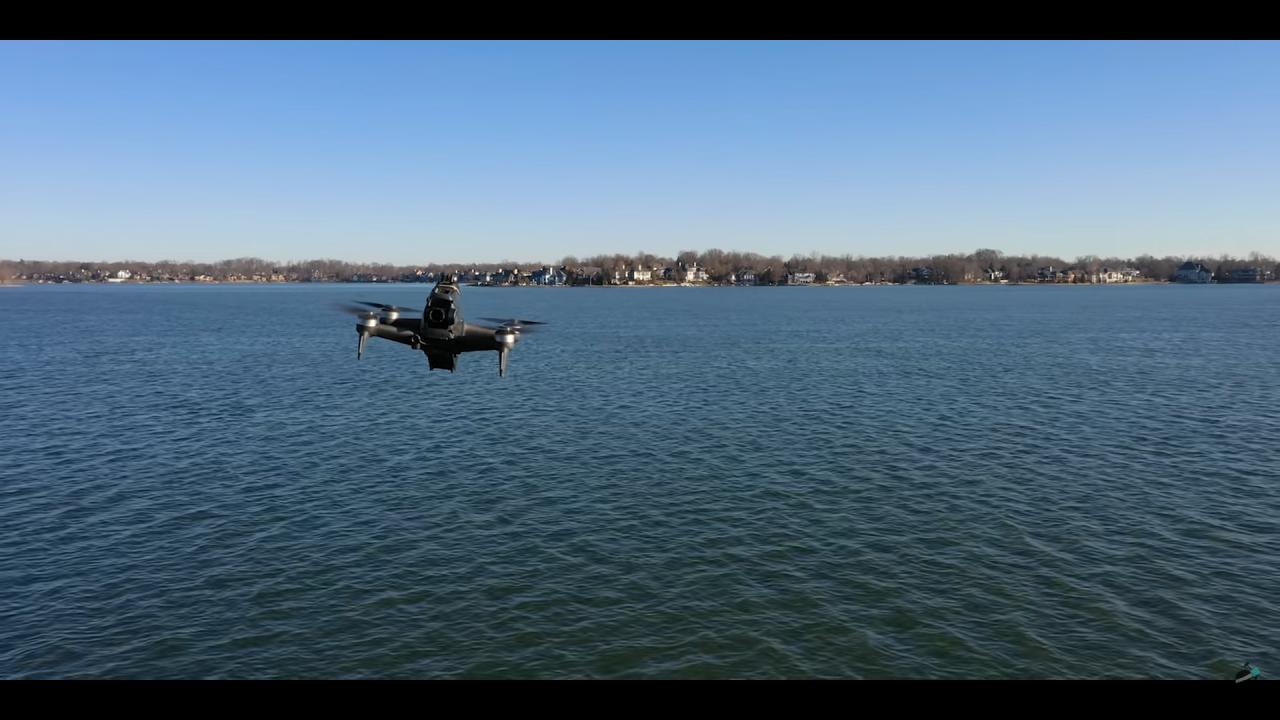Drone: (324, 272, 558, 386)
